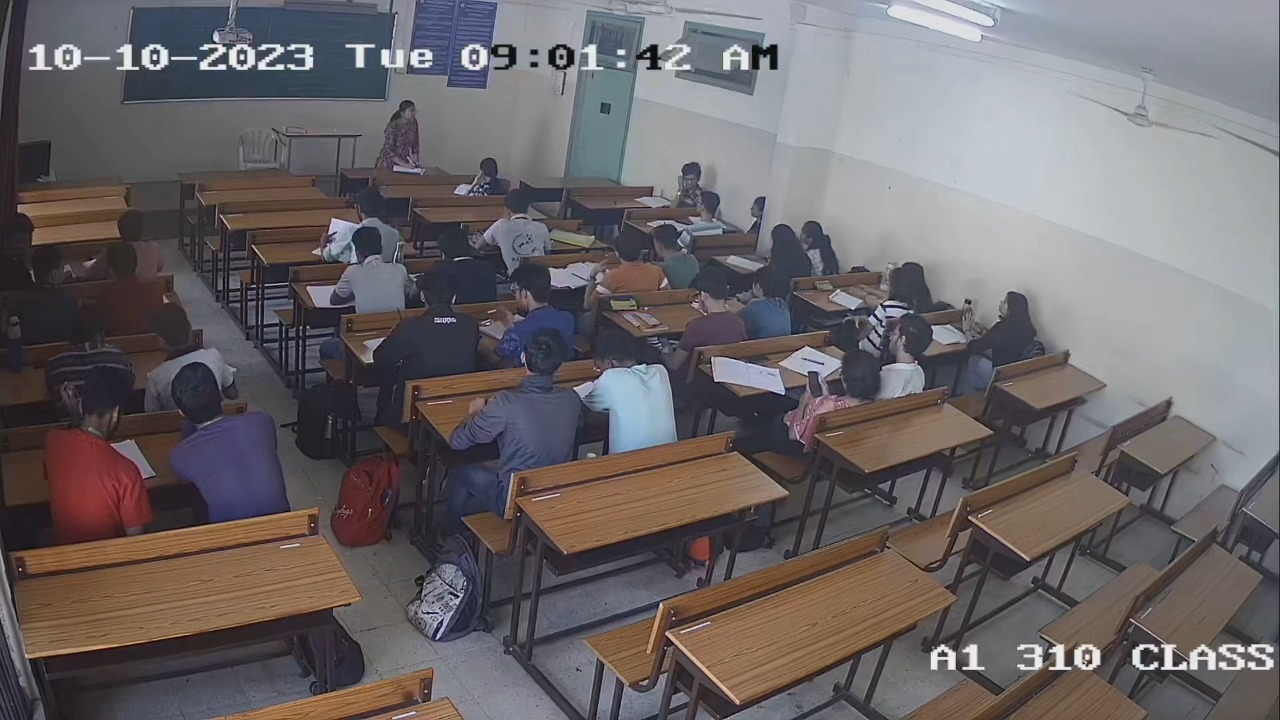cell-phones: (803, 368, 829, 400), (607, 293, 639, 313), (656, 332, 678, 357), (811, 279, 836, 292)
person: (781, 351, 879, 428), (666, 271, 746, 348), (877, 266, 917, 318)
